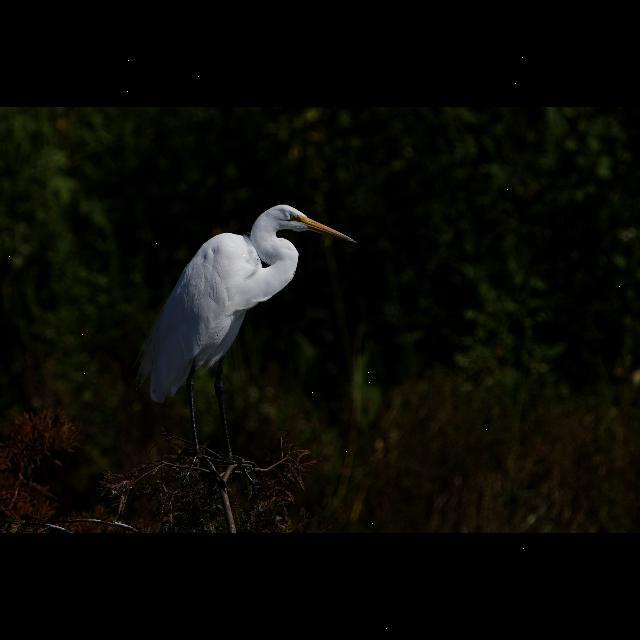egret: (136, 202, 356, 470)
